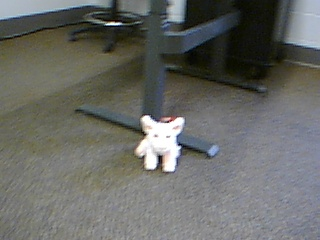piggy: (132, 113, 187, 174)
